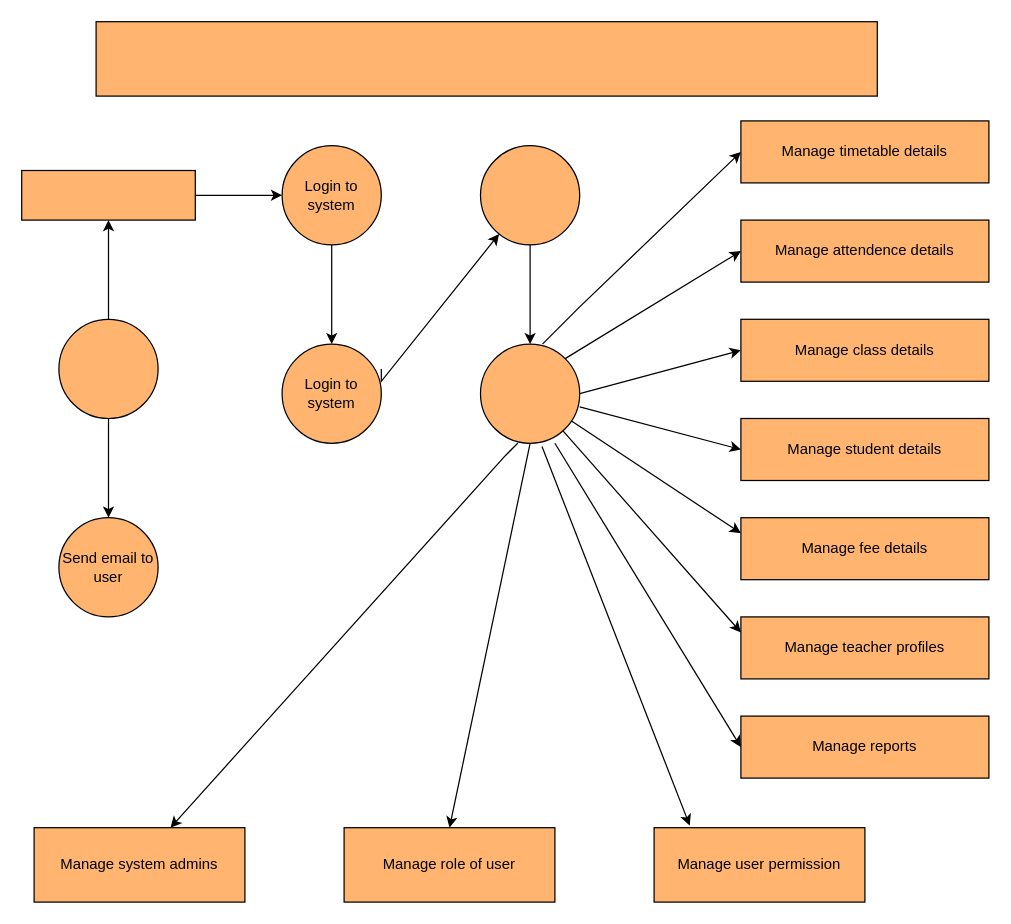
Image size: 1011x924. Some labels were removed from this diagram. The centre of each missing label's shape, as x and y in pixels:
Admin: point (107, 194)
Check role of axis: point (529, 194)
Forgot password: point (108, 368)
Manage modules: point (529, 393)
STUDENT INFORMATION SYSTEM: point (486, 58)
